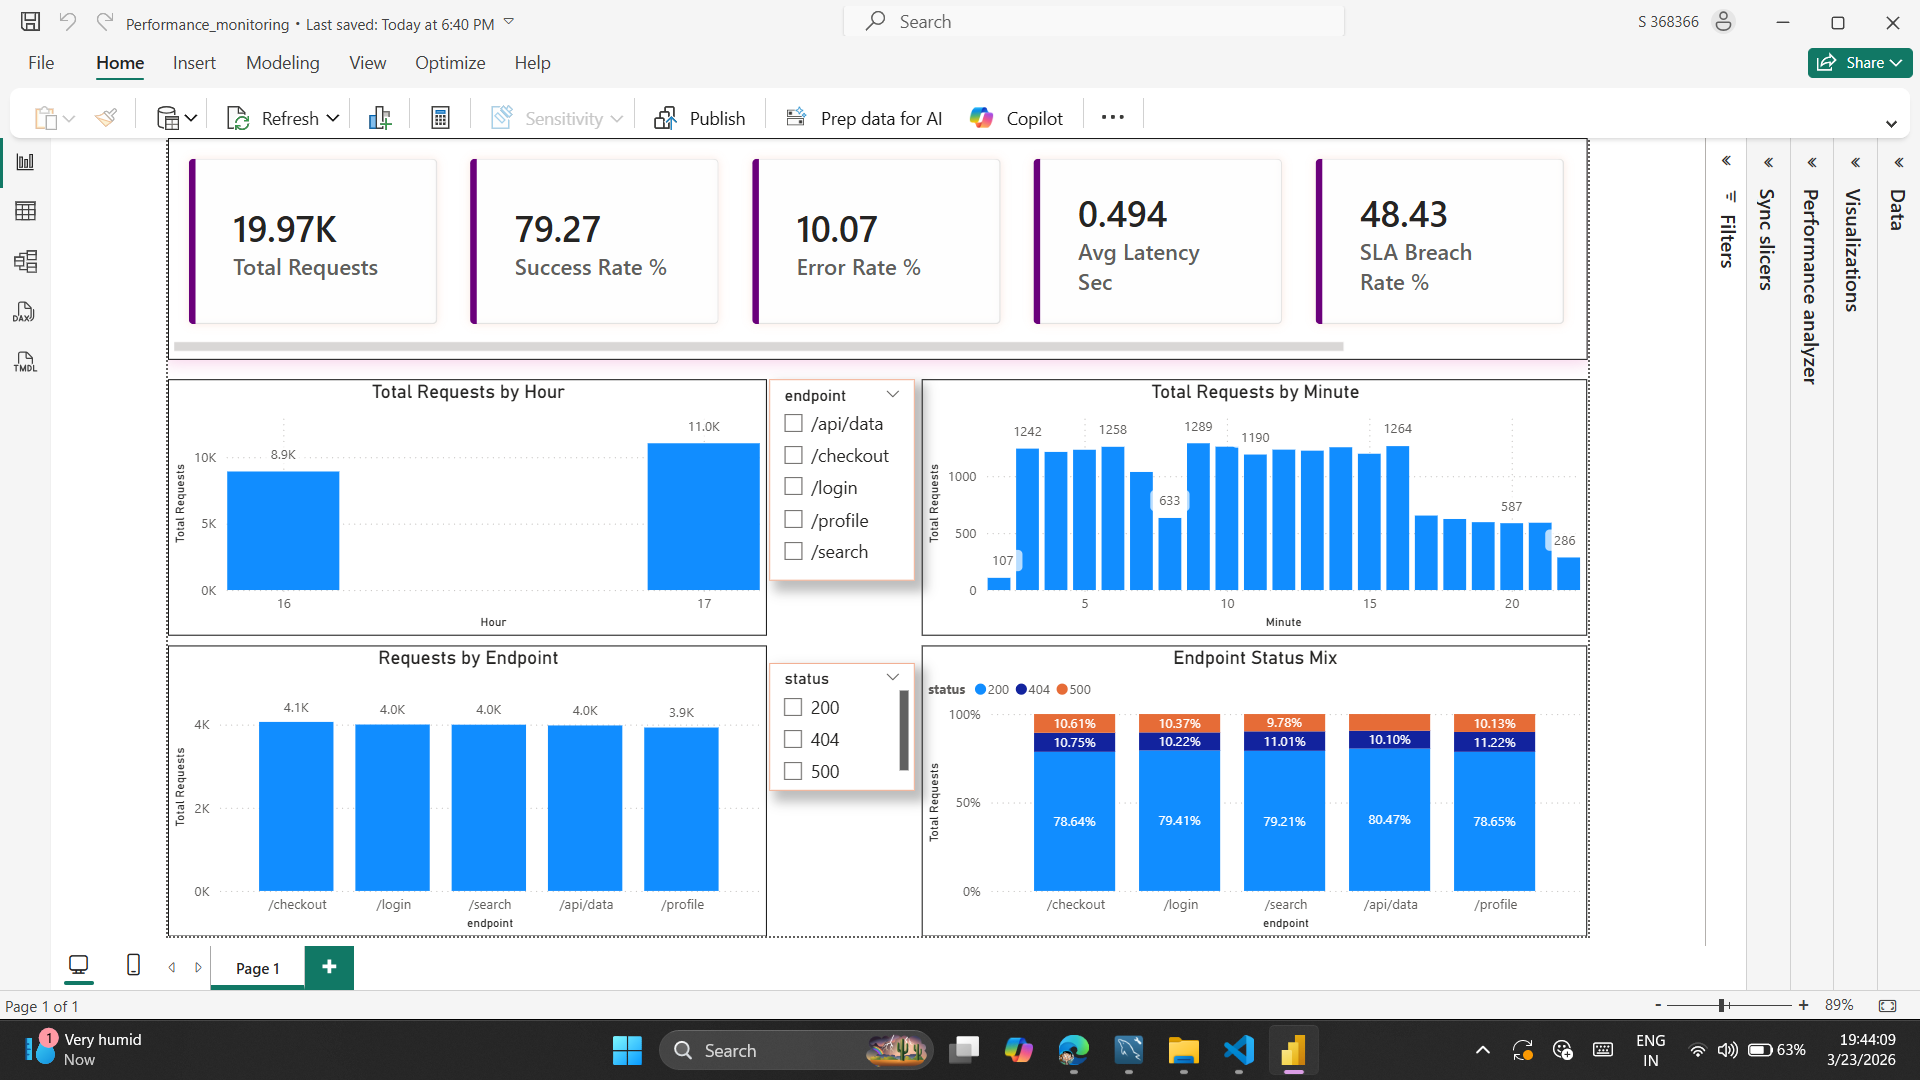

The page's visual inventory and layout, read from the dashboard file:
{"tool":"powerbi","page":{"name":"Page 1","canvas":[1280,720],"ordinal":0},"visuals":[{"type":"cardVisual","fields":{"Data":["performance_monitoring alerts.Total Requests","performance_monitoring alerts.Success Rate %","performance_monitoring alerts.Error Rate %","performance_monitoring alerts.Avg Latency Sec","performance_monitoring alerts.SLA Breach Rate %","performance_monitoring alerts.Health Score %"]},"box":[0,0,1280,224.3],"z":0},{"type":"clusteredColumnChart","title":"Hourly Traffic","fields":{"Category":["performance_monitoring vw_system_logs_clean.Hour"],"Y":["performance_monitoring alerts.Total Requests"]},"box":[10,214.3,567.1,257.1],"z":1},{"type":"clusteredColumnChart","title":"Minute Traffic","fields":{"Category":["performance_monitoring vw_system_logs_clean.Minute"],"Y":["performance_monitoring alerts.Total Requests"]},"box":[702.9,214.3,567.1,257.1],"z":2},{"type":"clusteredBarChart","title":"Endpoint Volume","fields":{"Category":["performance_monitoring vw_system_logs_clean.endpoint"],"Y":["performance_monitoring alerts.Total Requests"]},"box":[10,481.4,567.1,224.3],"z":3},{"type":"hundredPercentStackedColumnChart","title":"Endpoint Status Distribution","fields":{"Y":["performance_monitoring alerts.Total Requests"],"Category":["performance_monitoring vw_system_logs_clean.endpoint"],"Series":["performance_monitoring vw_system_logs_clean.status"]},"box":[704.3,481.4,565.7,224.3],"z":4},{"type":"slicer","fields":{"Values":["performance_monitoring vw_system_logs_clean.endpoint"]},"box":[584.3,332.9,111.4,75.7],"z":5},{"type":"slicer","fields":{"Values":["performance_monitoring vw_system_logs_clean.status"]},"box":[584.3,554.3,111.4,80],"z":6}]}

Visuals, with their boxes on the page's 1280x720 design canvas (x1, y1, x2, y2). These are canvas units, not pixel positions in the 1920x1080 screenshot, which may show the page scaled, cropped or inside an application window:
cardVisual - performance_monitoring alerts.Total Requests x performance_monitoring alerts.Success Rate %: rect(0, 0, 1280, 224)
"Hourly Traffic" clusteredColumnChart: rect(10, 214, 577, 471)
"Minute Traffic" clusteredColumnChart: rect(703, 214, 1270, 471)
"Endpoint Volume" clusteredBarChart: rect(10, 481, 577, 706)
"Endpoint Status Distribution" hundredPercentStackedColumnChart: rect(704, 481, 1270, 706)
slicer - performance_monitoring vw_system_logs_clean.endpoint: rect(584, 333, 696, 409)
slicer - performance_monitoring vw_system_logs_clean.status: rect(584, 554, 696, 634)
